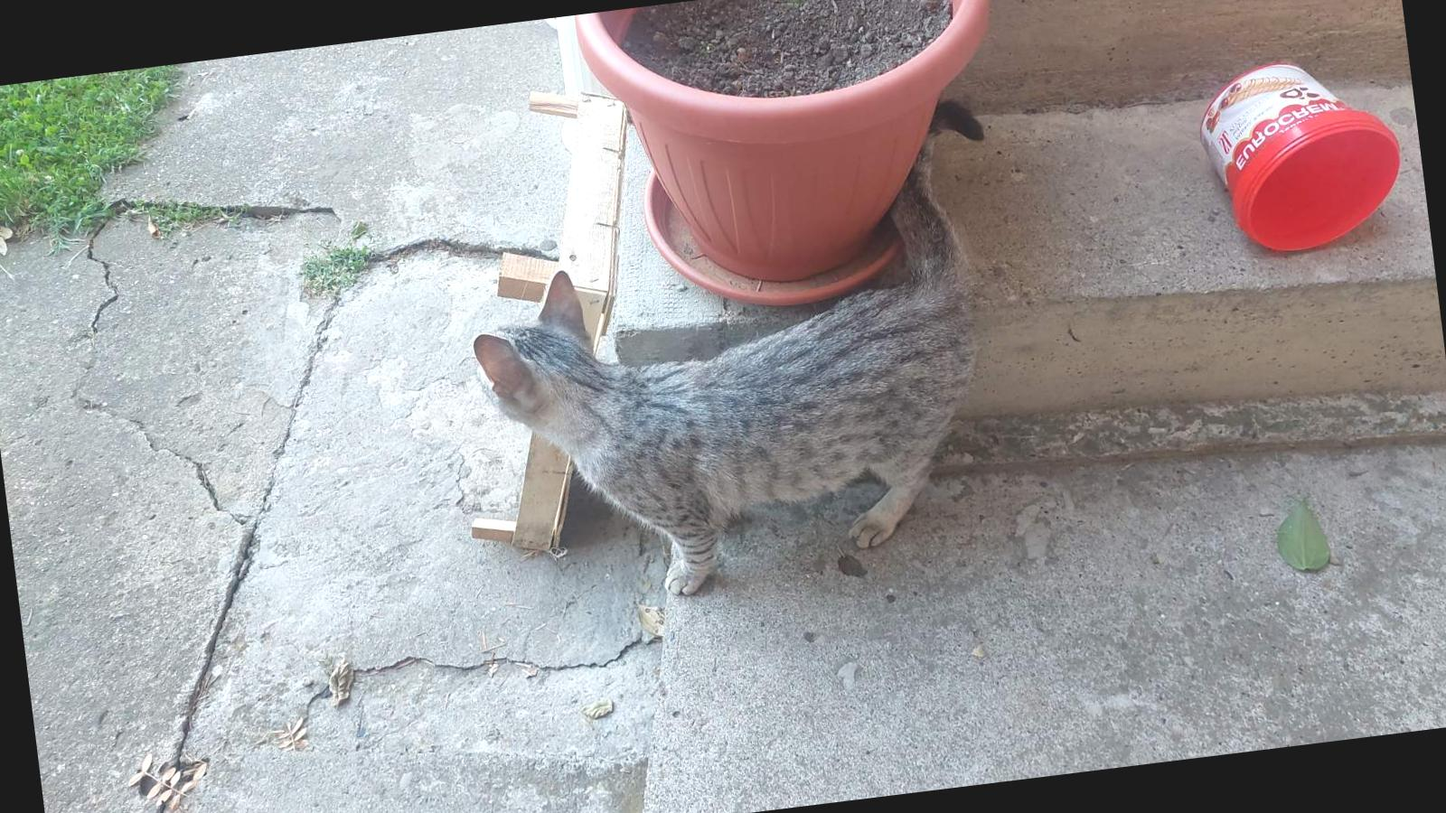macka: (448, 94, 1035, 619)
